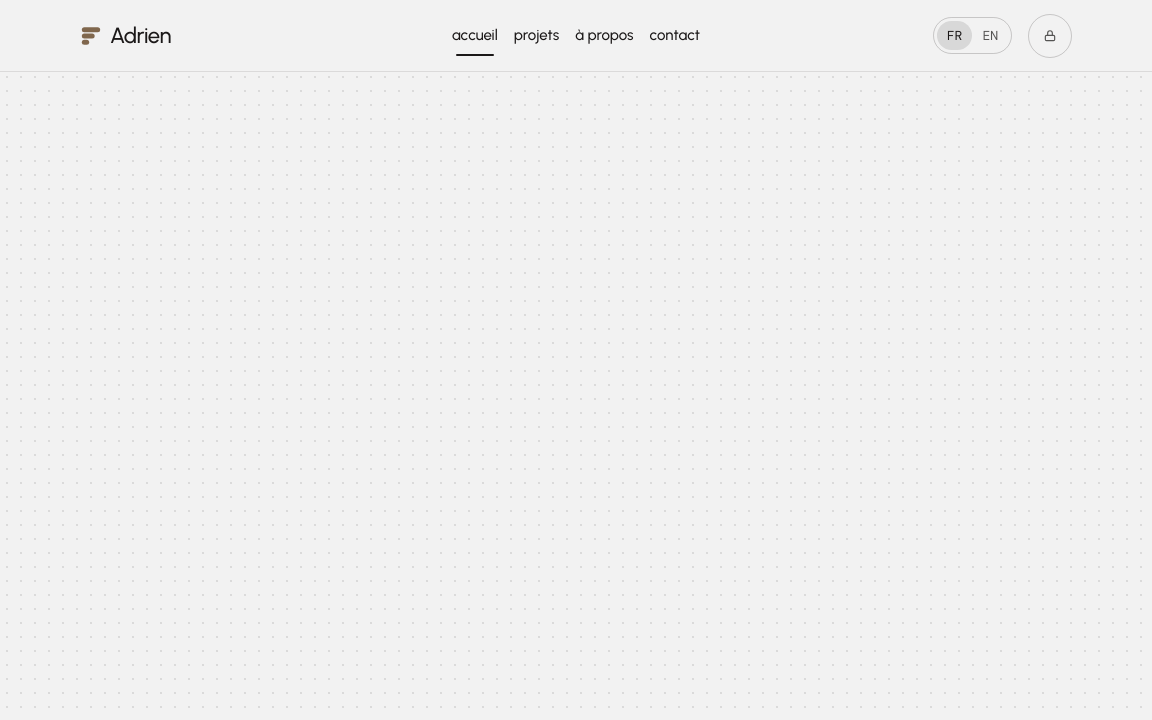
Test: Navbar › switches language with the FR/EN button
Click the button with aria-label "Passer en anglais". click: (972, 36)
box: [933,17,1012,54]
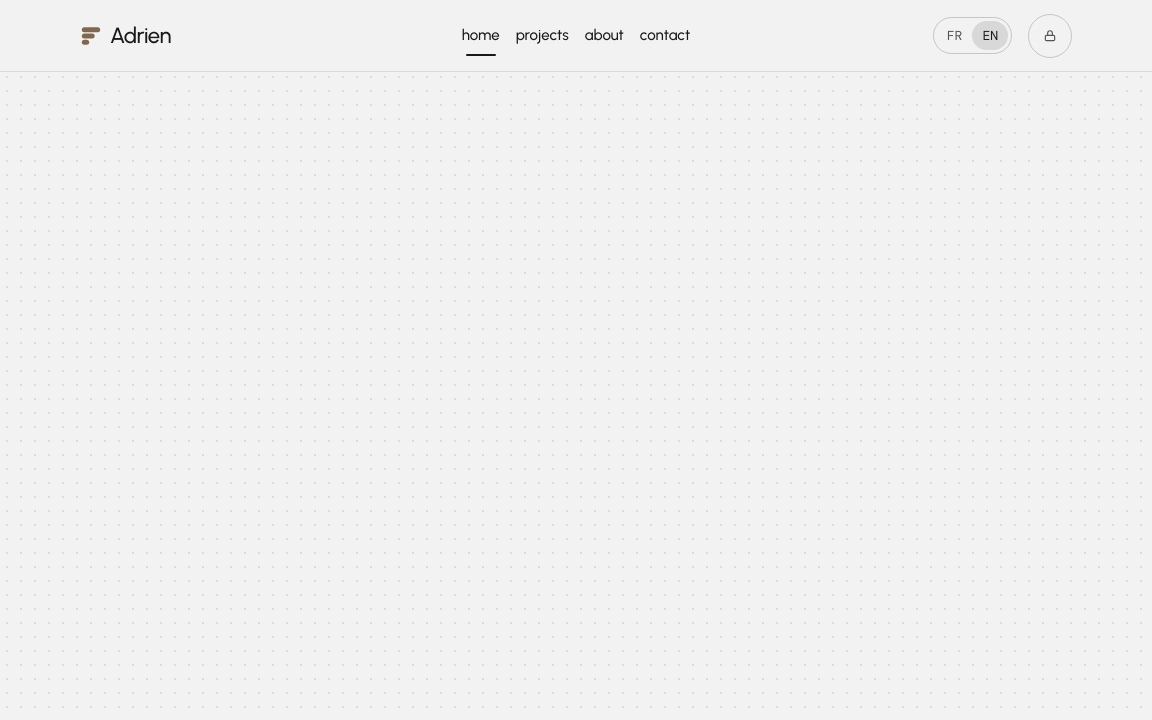
Expected: the link "home" is shown, [454,18,508,54]
